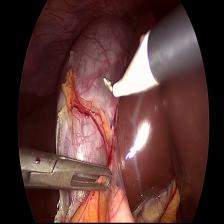Grasper: (15, 148, 112, 196)
Hook: (102, 28, 162, 104)
